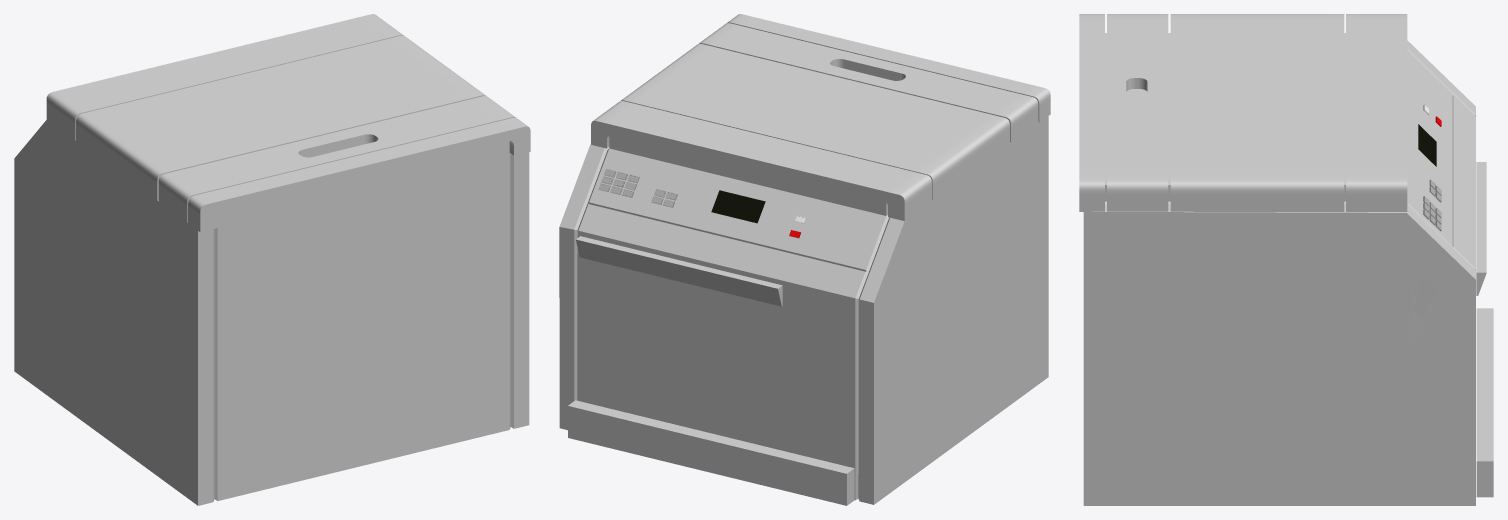
The model's file is Printer.FBX.
3 renders of one model, left to right at view 1: azimuth 30°, elevation 25°; view 2: azimuth 150°, elevation 25°; view 3: azimuth 270°, elevation 25°, orthographic. The views are drawn at different scales.
Visible parts, largest first — view 1: Box030, Box031; view 2: Box030, Box031, Plane012, Box035, Box049, Plane011; view 3: Box030, Box031, Box035, Box049, Plane011.
Boxes of the visible parts, bbox=[...] form: Box030: bbox=[14, 120, 529, 505]; Box031: bbox=[46, 14, 530, 232]; Box030: bbox=[559, 116, 1048, 504]; Box031: bbox=[591, 14, 1050, 221]; Plane012: bbox=[581, 257, 781, 450]; Box035: bbox=[568, 236, 854, 505]; Box049: bbox=[598, 169, 806, 238]; Plane011: bbox=[711, 190, 765, 223]; Box030: bbox=[1083, 33, 1475, 505]; Box031: bbox=[1079, 14, 1407, 211]; Box035: bbox=[1476, 162, 1493, 497]; Box049: bbox=[1423, 104, 1441, 231]; Plane011: bbox=[1418, 124, 1436, 166].
Size of the model in its own units: 69.88 by 60.75 by 70.91.
2 materials, 1 textured.
